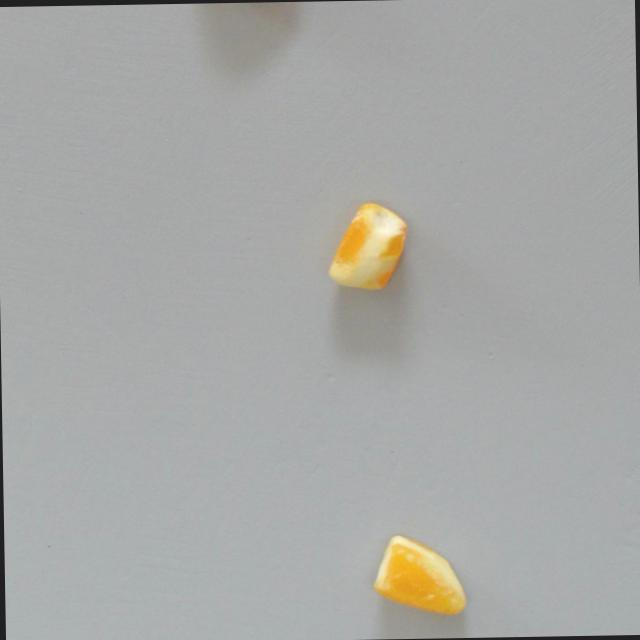pelicula: (371, 532, 470, 619), (324, 201, 410, 292)
